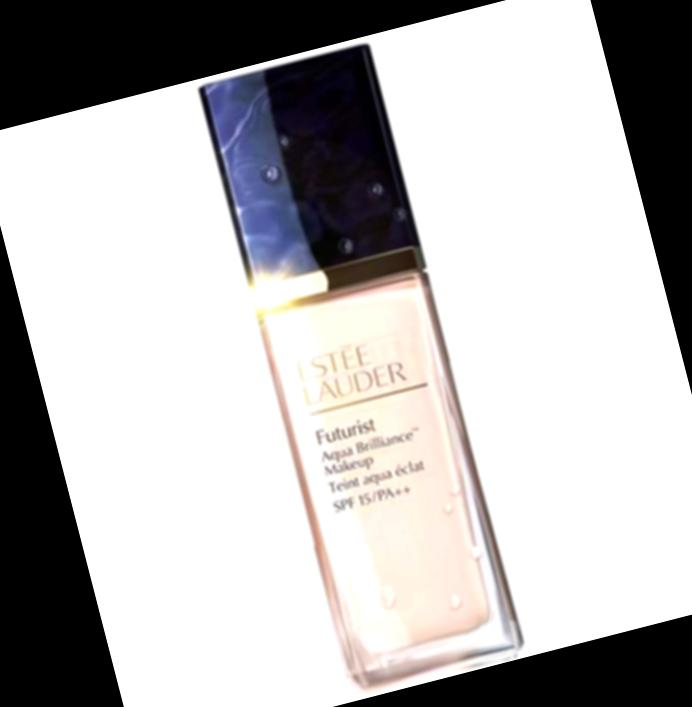cosmetic: (195, 39, 529, 697)
